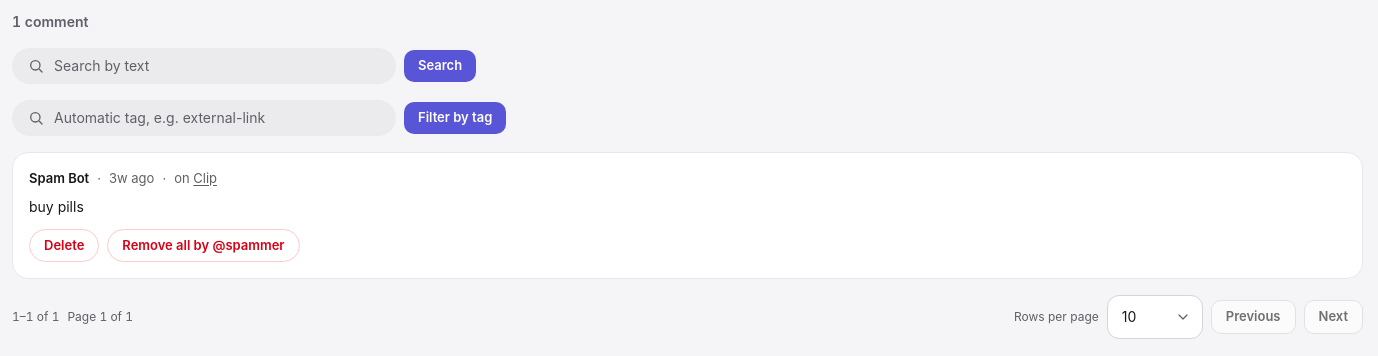
Test case: AdminCommentsView bulk removal › names the account in the confirmation, posts the username, shows the count and reloads
What coordinates should you click on to do the following:
click the button with aria-label "Remove all comments by @spammer"
I would click on:
 (203, 245)
Its box is [107,228,300,262].
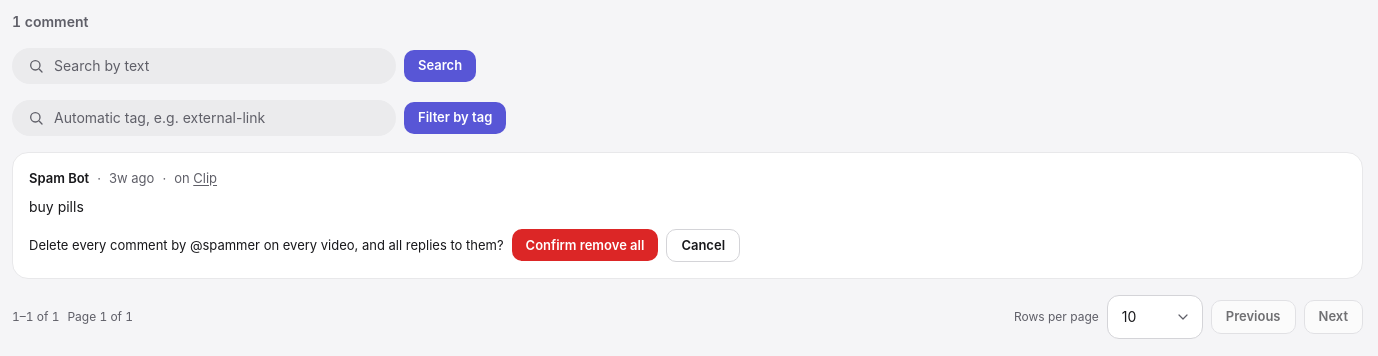
Expected: the text "every comment by @spammer on every video, and all replies to them" is shown, [29,236,504,255]
What coordinates should you click on to do the following:
click the button "Confirm remove all"
I would click on:
 (585, 245)
Its box is [512,229,658,261].
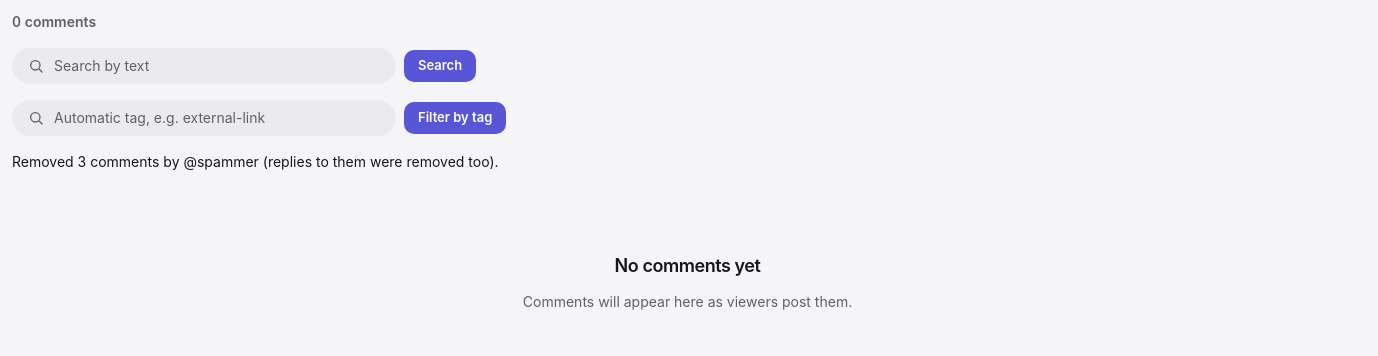
Expected: the text "Removed 3 comments by @spammer (replies to them were removed too)." is shown, [12,153,498,170]
